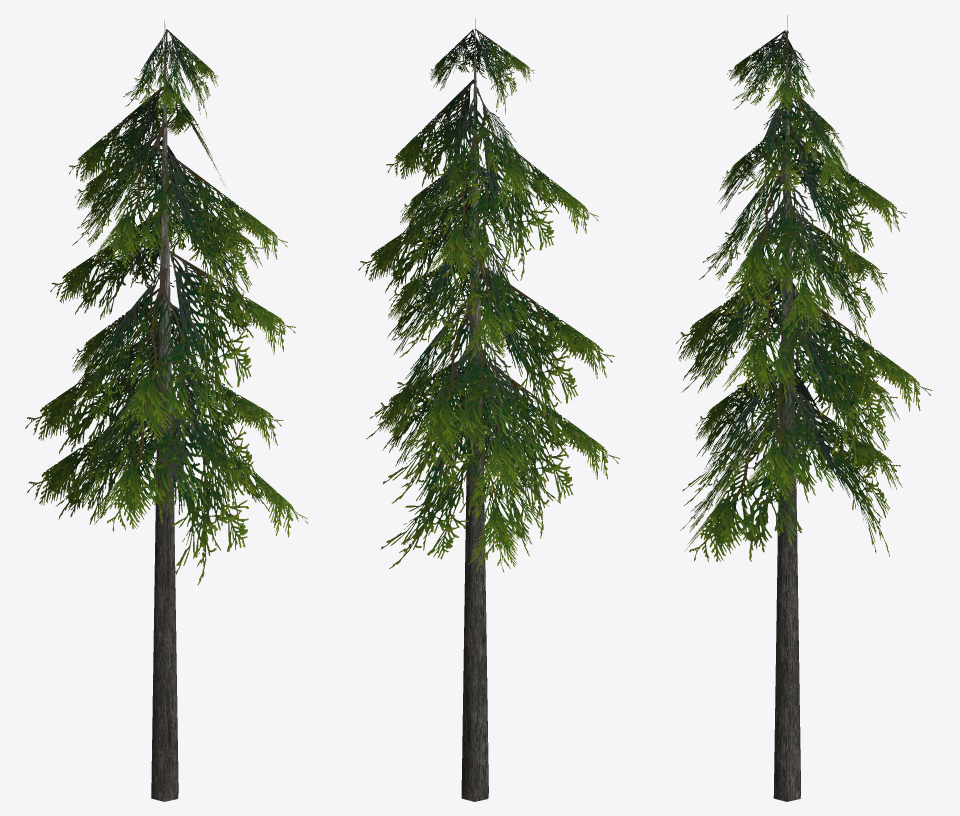
File: Tree-A-01.fbx
3 views of the same model, side by side, from view 1: azimuth 30°, elevation 25°; view 2: azimuth 150°, elevation 25°; view 3: azimuth 270°, elevation 25° (orthographic).
Parts seen in each view (by area): view 1: Tree-A-01; view 2: Tree-A-01; view 3: Tree-A-01.
Part boxes in pixels (box(x1,y1,x2,y2)): Tree-A-01: box(25, 20, 307, 801); Tree-A-01: box(358, 18, 619, 801); Tree-A-01: box(676, 15, 931, 801).
Size of the model in its own units: 365 by 1198 by 394.
